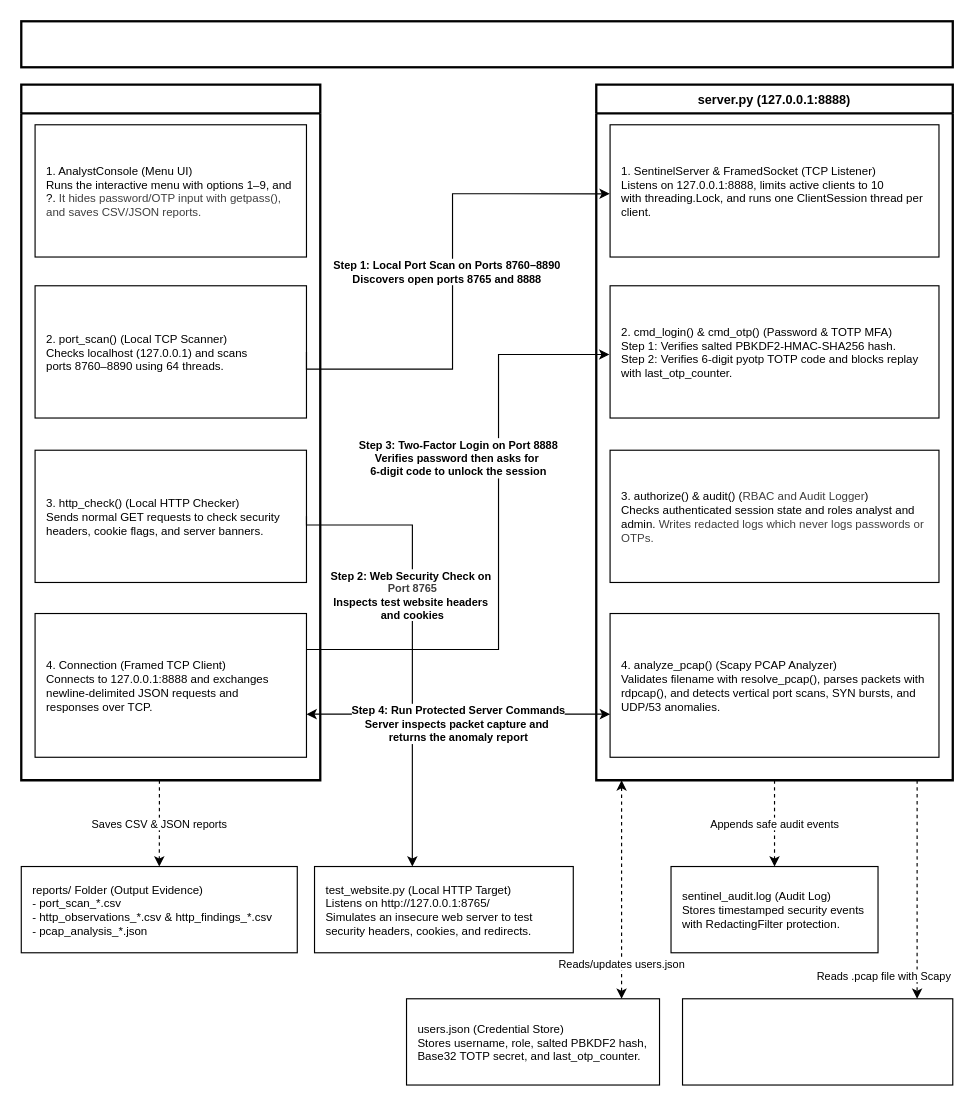
The diagram is 973 pixels wide and 1105 high, and some of its shapes have lost their labels. Here are the shapes that lost their labels. From the top down, the box of each, then its label:
(20, 20, 953, 68): System Architecture & File Interaction Flowchart
(20, 83, 321, 781): client.py
(681, 998, 953, 1085): FSCT8561_Operation_Sentinel_Traffic.pcap file is read by server.py.
